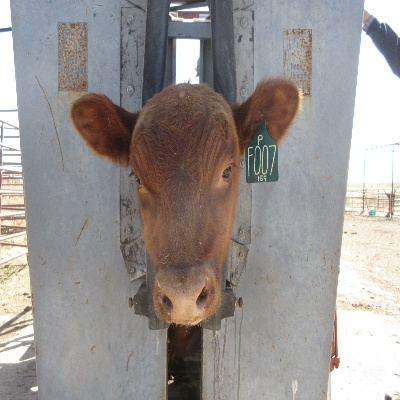fidget_spinner: (153, 277, 207, 321)
